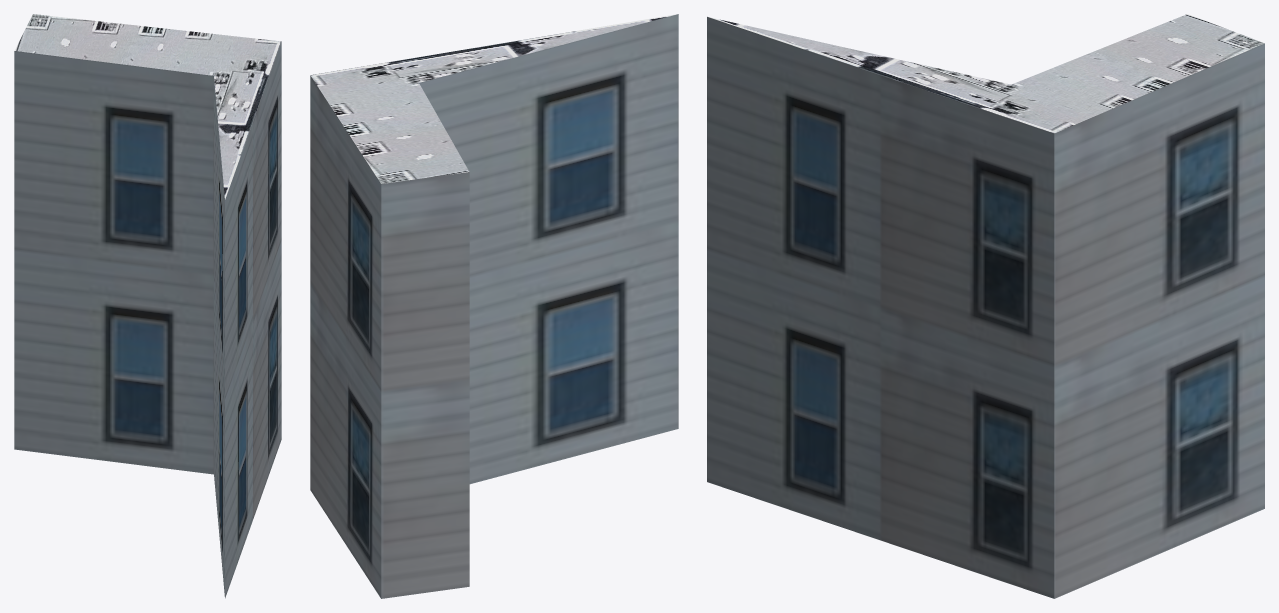
The model's file is ResTex__3742.fbx.
3 views of the same model, side by side, from view 1: azimuth 30°, elevation 25°; view 2: azimuth 150°, elevation 25°; view 3: azimuth 270°, elevation 25° (orthographic). The views are drawn at different scales.
Parts seen in each view (by area): view 1: CityEngineMaterial_18_m, CityEngineMaterial_4_m; view 2: CityEngineMaterial_18_m, CityEngineMaterial_4_m; view 3: CityEngineMaterial_18_m, CityEngineMaterial_4_m.
Boxes of the visible parts, box(x1,y1,x2,y2) form: CityEngineMaterial_18_m: box(14, 41, 281, 598); CityEngineMaterial_4_m: box(14, 14, 281, 199); CityEngineMaterial_18_m: box(310, 14, 678, 598); CityEngineMaterial_4_m: box(310, 14, 676, 183); CityEngineMaterial_18_m: box(707, 17, 1264, 598); CityEngineMaterial_4_m: box(708, 14, 1264, 133).
Size of the model in its own units: 3.31 by 6 by 6.52.
Materials: 2 (2 with a texture image).
